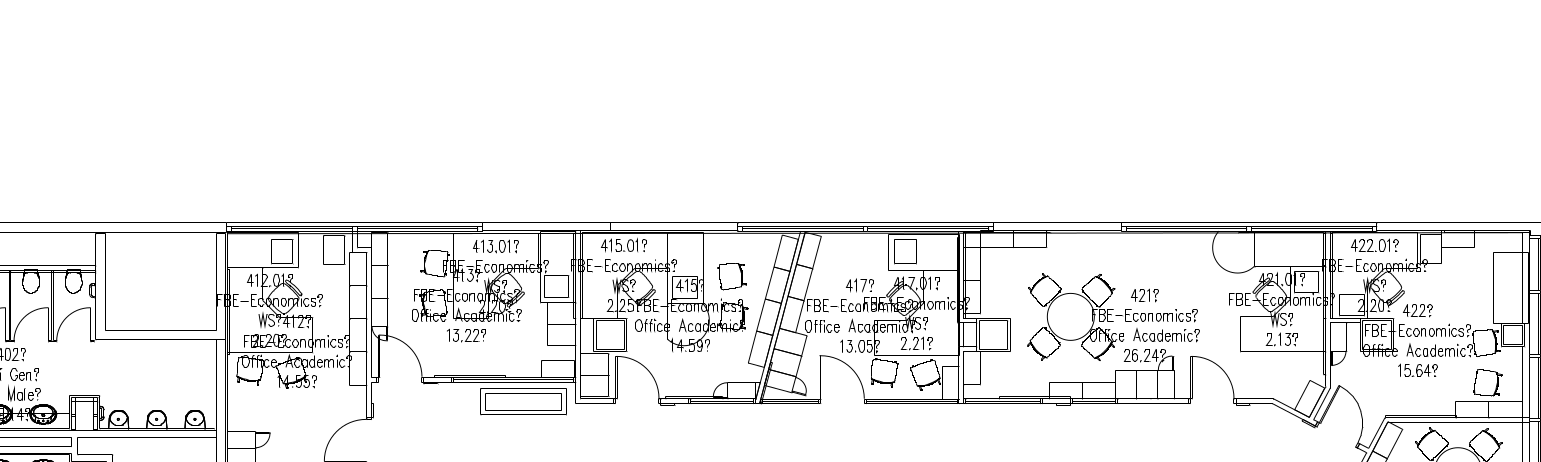door: (1315, 379, 1374, 455), (373, 333, 428, 393), (610, 353, 665, 413), (812, 350, 867, 410), (1186, 351, 1241, 411), (311, 415, 374, 462), (53, 302, 94, 346), (11, 303, 52, 347)
